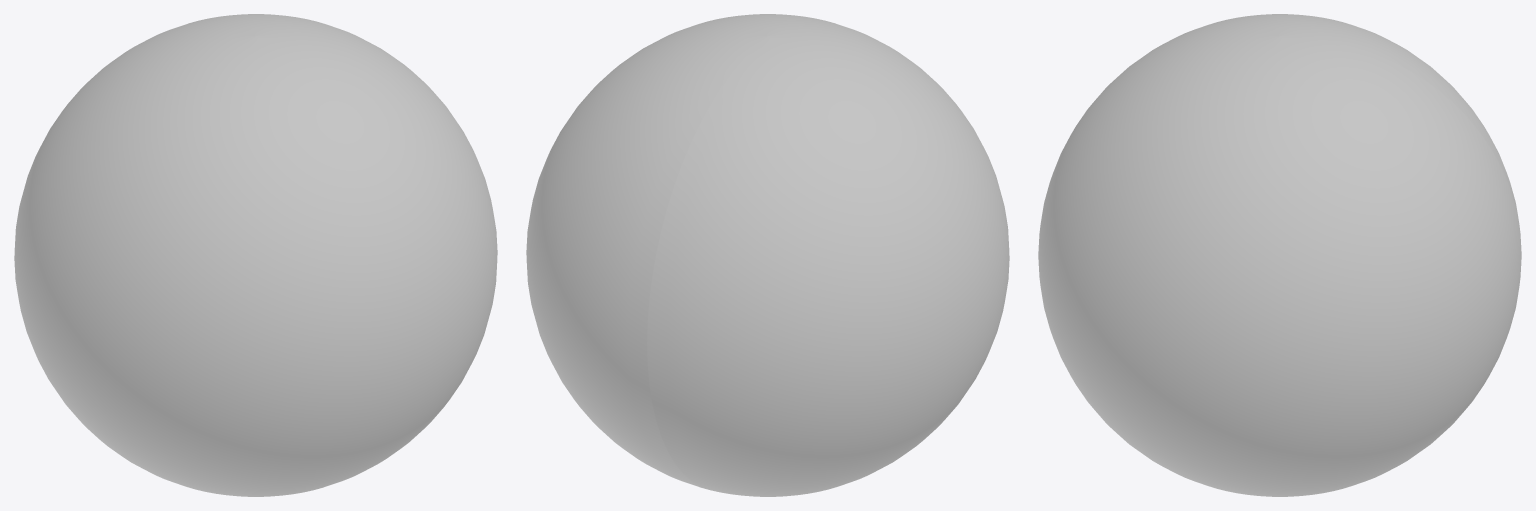
Rendered from mercury.glb.
3 renders of one model, left to right at view 1: azimuth 30°, elevation 25°; view 2: azimuth 150°, elevation 25°; view 3: azimuth 270°, elevation 25°, orthographic.
Visible parts, largest first — view 1: UnstableStarref_2_0; view 2: UnstableStarref_2_0; view 3: UnstableStarref_2_0.
Part boxes in pixels (x1,y1,x2,y2): UnstableStarref_2_0: (14, 14, 497, 496); UnstableStarref_2_0: (526, 14, 1009, 496); UnstableStarref_2_0: (1038, 14, 1521, 496).
Bounding box in the file's own units: 300 × 300 × 300.
2 materials, 1 textured.
